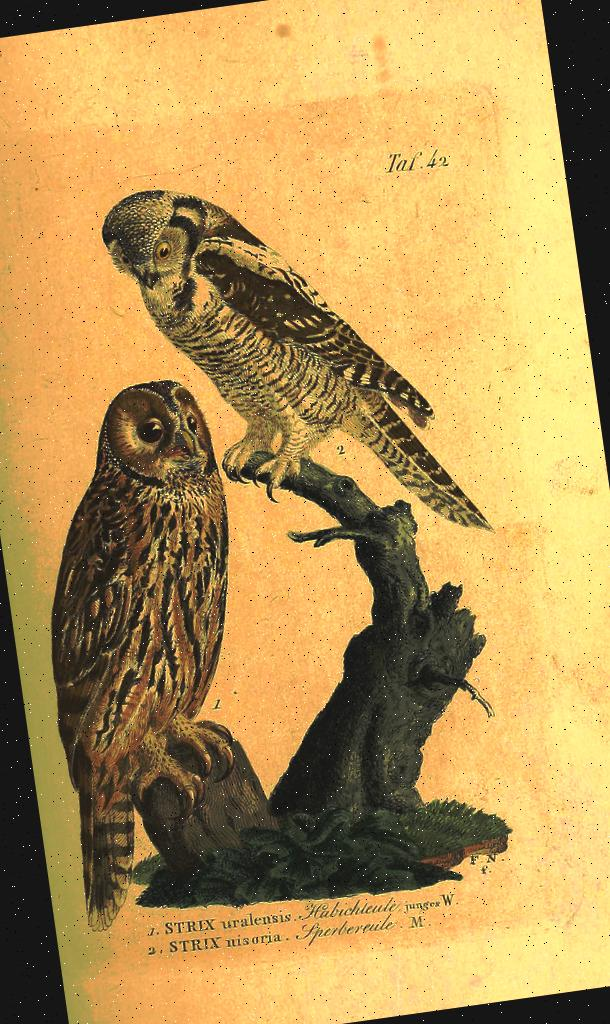Owl: (90, 145, 497, 585), (7, 366, 291, 942)
